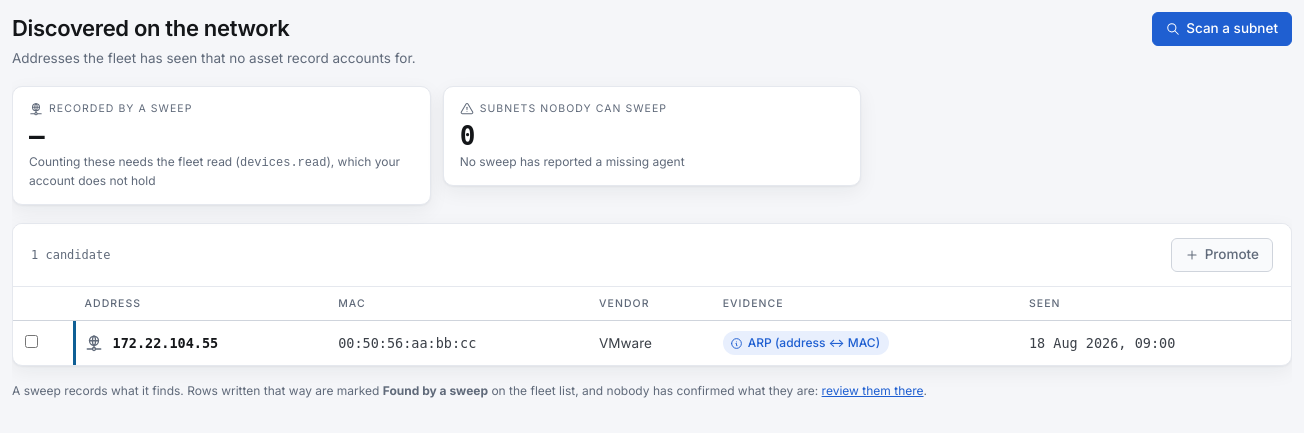
Test: what a promote actually did › does not report a silent all-refused promote as success
Check: the text "172.22.104.55" is shown, box [112,333,218,354]
Click the checkbox named "172.22.104.55" at point(32, 342), box [25,335,38,348]
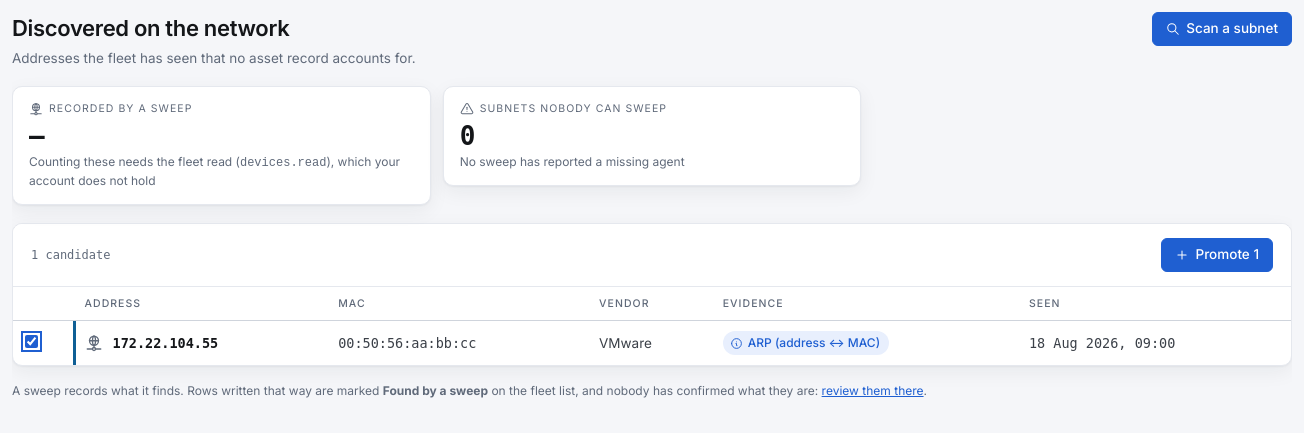
Click the button "Promote 1" at point(1217, 255), box [1162,238,1273,272]
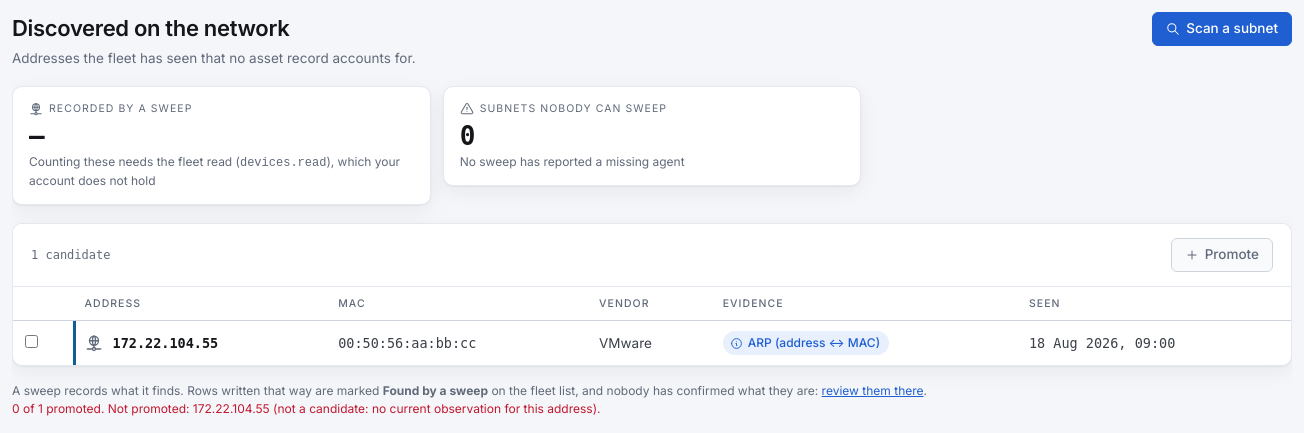
Check: the message shows "0 of 1 promoted", box [12,401,600,416]
Check: the message shows "no current observation", box [12,401,600,416]
